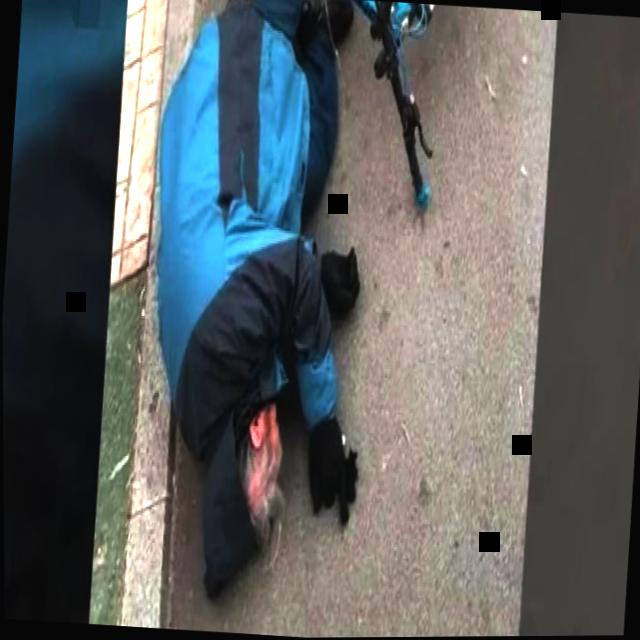Fall-Detected: (133, 0, 392, 628)
